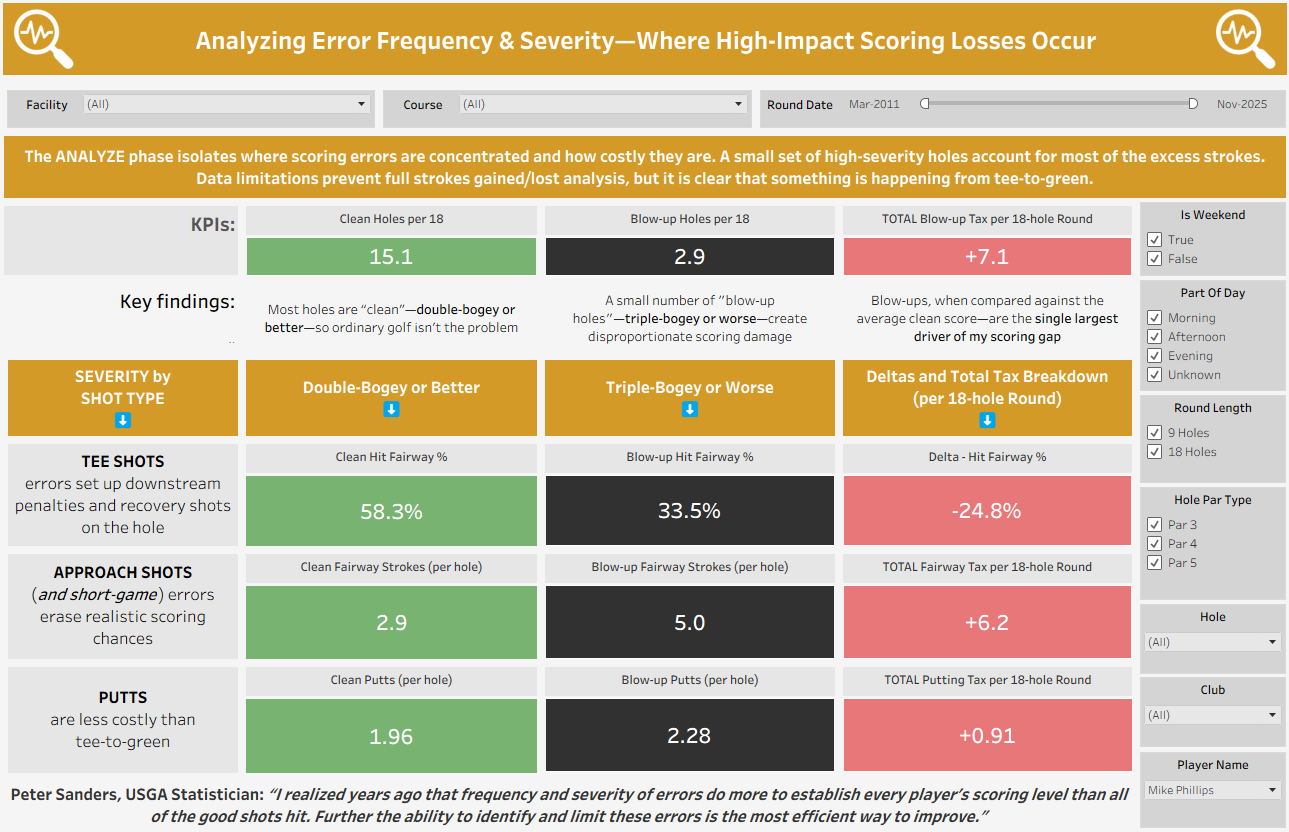

Layout of this report page (visuals, bound fields, positions):
{"tool":"tableau","page":{"name":"5. ANALYZE Errors","canvas":[1300,850],"ordinal":5},"visuals":[{"type":"image","param":"C:/Users/micha/OneDrive/Documents/NewForce/golf-capstone/data/reference/ANALYZE.","box":[8,8,83,72]},{"type":"title","box":[91,8,1120,72]},{"type":"image","param":"C:/Users/micha/OneDrive/Documents/NewForce/golf-capstone/data/reference/ANALYZE.","box":[1211,8,81,72]},{"type":"blank","box":[5,63,1290,32]},{"type":"filter","title":"Filters Control Panel","param":"[federated.1hzspvt11izh0a1geo4r71k8ylsa].[none:facility:nk]","box":[5,95,379,42.1]},{"type":"filter","title":"Filters Control Panel","param":"[federated.1hzspvt11izh0a1geo4r71k8ylsa].[none:course:nk]","box":[384,95,377,42.1]},{"type":"filter","title":"Filters Control Panel","param":"[federated.1hzspvt11izh0a1geo4r71k8ylsa].[none:round_dt:qk]","box":[761,95,534,42.1]},{"type":"text","box":[5,137.1,1290,70]},{"type":"text","box":[5,207.1,242,76.7]},{"type":"worksheet","title":"Clean Holes per 18","mark":"GanttBar","box":[247,207.1,299,77.7]},{"type":"worksheet","title":"Blow-up Holes per 18","mark":"GanttBar","box":[546,207.1,298,77.7]},{"type":"worksheet","title":"TOTAL Blow-up Tax per 18-hole Round","mark":"GanttBar","box":[844,207.1,297.1,77.7]},{"type":"filter","title":"Filters Control Panel","param":"[federated.1hzspvt11izh0a1geo4r71k8ylsa].[none:is_weekend:nk]","box":[1141.1,207.1,153.9,77.7]},{"type":"text","box":[5,283.9,242,76.7]},{"type":"text","box":[247,284.8,299,75.8]},{"type":"text","box":[546,284.8,298,75.8]},{"type":"text","box":[844,284.8,297.1,75.8]},{"type":"filter","title":"Filters Control Panel","param":"[federated.1hzspvt11izh0a1geo4r71k8ylsa].[none:part_of_day:nk]","box":[1141.1,284.8,153.9,115.2]},{"type":"text","box":[5,360.6,242,84.4]},{"type":"text","box":[247,360.6,299,84.4]},{"type":"text","box":[546,360.6,298,84.4]},{"type":"text","box":[844,360.6,297.1,84.4]},{"type":"filter","title":"Filters Control Panel","param":"[federated.1hzspvt11izh0a1geo4r71k8ylsa].[none:round_holes_scored:ok]","box":[1141.1,400,153.9,91.7]},{"type":"text","box":[9,445,238,110]},{"type":"worksheet","title":"Clean Hit Fairway %","mark":"Square","box":[247,445,299,110]},{"type":"worksheet","title":"Blow-up Hit Fairway %","mark":"GanttBar","box":[546,445,298,110]},{"type":"worksheet","title":"Delta - Hit Fairway %","mark":"GanttBar","box":[844,445,297.1,110]},{"type":"filter","title":"Filters Control Panel","param":"[federated.1hzspvt11izh0a1geo4r71k8ylsa].[none:hole_par_bucket:nk]","box":[1141.1,491.7,153.9,117.1]},{"type":"worksheet","title":"Filters Control Panel","mark":"Automatic","box":[1242,547,33,32]},{"type":"text","box":[5,555,242,113]},{"type":"worksheet","title":"Clean Fairway Strokes (per hole)","mark":"Square","box":[247,555,299,113]},{"type":"worksheet","title":"Blow-up Fairway Strokes (per hole)","mark":"GanttBar","box":[546,555,298,113.4]},{"type":"worksheet","title":"TOTAL Fairway Tax per 18-hole Round","mark":"GanttBar","box":[844,555,297.1,113.4]},{"type":"filter","title":"Filters Control Panel","param":"[federated.1hzspvt11izh0a1geo4r71k8ylsa].[none:hole_number:ok]","box":[1141.1,608.8,153.9,73.6]},{"type":"text","box":[9,668,238,113.6]},{"type":"worksheet","title":"Clean Putts (per hole)","mark":"Square","box":[247,668,299,113.6]},{"type":"worksheet","title":"Blow-up Putts (per hole)","mark":"GanttBar","box":[546,668.4,297.6,113.2]},{"type":"worksheet","title":"TOTAL Putting Tax per 18-hole Round","mark":"GanttBar","box":[843.6,668.4,297.6,113.2]},{"type":"filter","title":"Filters Control Panel","param":"[federated.1hzspvt11izh0a1geo4r71k8ylsa].[none:shot_club (clubs.csv):nk]","box":[1141.1,682.4,153.9,74.5]},{"type":"filter","title":"Filters Control Panel","param":"[federated.1hzspvt11izh0a1geo4r71k8ylsa].[none:player_name:nk]","box":[1141.1,756.8,153.9,88.2]},{"type":"text","box":[9,781.6,1132.1,56.2]}]}

Visuals, with their boxes in screenshot pixels (x1, y1, x2, y2), scaled from the page's 1300x850 canvas onto the 1289x832 screenshot:
image: pyautogui.locateOnScreen(8, 8, 90, 78)
title: pyautogui.locateOnScreen(90, 8, 1201, 78)
image: pyautogui.locateOnScreen(1201, 8, 1281, 78)
blank: pyautogui.locateOnScreen(5, 62, 1284, 93)
"Filters Control Panel" filter: pyautogui.locateOnScreen(5, 93, 381, 134)
"Filters Control Panel" filter: pyautogui.locateOnScreen(381, 93, 755, 134)
"Filters Control Panel" filter: pyautogui.locateOnScreen(755, 93, 1284, 134)
text: pyautogui.locateOnScreen(5, 134, 1284, 203)
text: pyautogui.locateOnScreen(5, 203, 245, 278)
"Clean Holes per 18" worksheet (GanttBar marks): pyautogui.locateOnScreen(245, 203, 541, 279)
"Blow-up Holes per 18" worksheet (GanttBar marks): pyautogui.locateOnScreen(541, 203, 837, 279)
"TOTAL Blow-up Tax per 18-hole Round" worksheet (GanttBar marks): pyautogui.locateOnScreen(837, 203, 1131, 279)
"Filters Control Panel" filter: pyautogui.locateOnScreen(1131, 203, 1284, 279)
text: pyautogui.locateOnScreen(5, 278, 245, 353)
text: pyautogui.locateOnScreen(245, 279, 541, 353)
text: pyautogui.locateOnScreen(541, 279, 837, 353)
text: pyautogui.locateOnScreen(837, 279, 1131, 353)
"Filters Control Panel" filter: pyautogui.locateOnScreen(1131, 279, 1284, 392)
text: pyautogui.locateOnScreen(5, 353, 245, 436)
text: pyautogui.locateOnScreen(245, 353, 541, 436)
text: pyautogui.locateOnScreen(541, 353, 837, 436)
text: pyautogui.locateOnScreen(837, 353, 1131, 436)
"Filters Control Panel" filter: pyautogui.locateOnScreen(1131, 392, 1284, 481)
text: pyautogui.locateOnScreen(9, 436, 245, 543)
"Clean Hit Fairway %" worksheet (Square marks): pyautogui.locateOnScreen(245, 436, 541, 543)
"Blow-up Hit Fairway %" worksheet (GanttBar marks): pyautogui.locateOnScreen(541, 436, 837, 543)
"Delta - Hit Fairway %" worksheet (GanttBar marks): pyautogui.locateOnScreen(837, 436, 1131, 543)
"Filters Control Panel" filter: pyautogui.locateOnScreen(1131, 481, 1284, 596)
"Filters Control Panel" worksheet: pyautogui.locateOnScreen(1231, 535, 1264, 567)
text: pyautogui.locateOnScreen(5, 543, 245, 654)
"Clean Fairway Strokes (per hole)" worksheet (Square marks): pyautogui.locateOnScreen(245, 543, 541, 654)
"Blow-up Fairway Strokes (per hole)" worksheet (GanttBar marks): pyautogui.locateOnScreen(541, 543, 837, 654)
"TOTAL Fairway Tax per 18-hole Round" worksheet (GanttBar marks): pyautogui.locateOnScreen(837, 543, 1131, 654)
"Filters Control Panel" filter: pyautogui.locateOnScreen(1131, 596, 1284, 668)
text: pyautogui.locateOnScreen(9, 654, 245, 765)
"Clean Putts (per hole)" worksheet (Square marks): pyautogui.locateOnScreen(245, 654, 541, 765)
"Blow-up Putts (per hole)" worksheet (GanttBar marks): pyautogui.locateOnScreen(541, 654, 836, 765)
"TOTAL Putting Tax per 18-hole Round" worksheet (GanttBar marks): pyautogui.locateOnScreen(836, 654, 1132, 765)
"Filters Control Panel" filter: pyautogui.locateOnScreen(1131, 668, 1284, 741)
"Filters Control Panel" filter: pyautogui.locateOnScreen(1131, 741, 1284, 827)
text: pyautogui.locateOnScreen(9, 765, 1131, 820)
